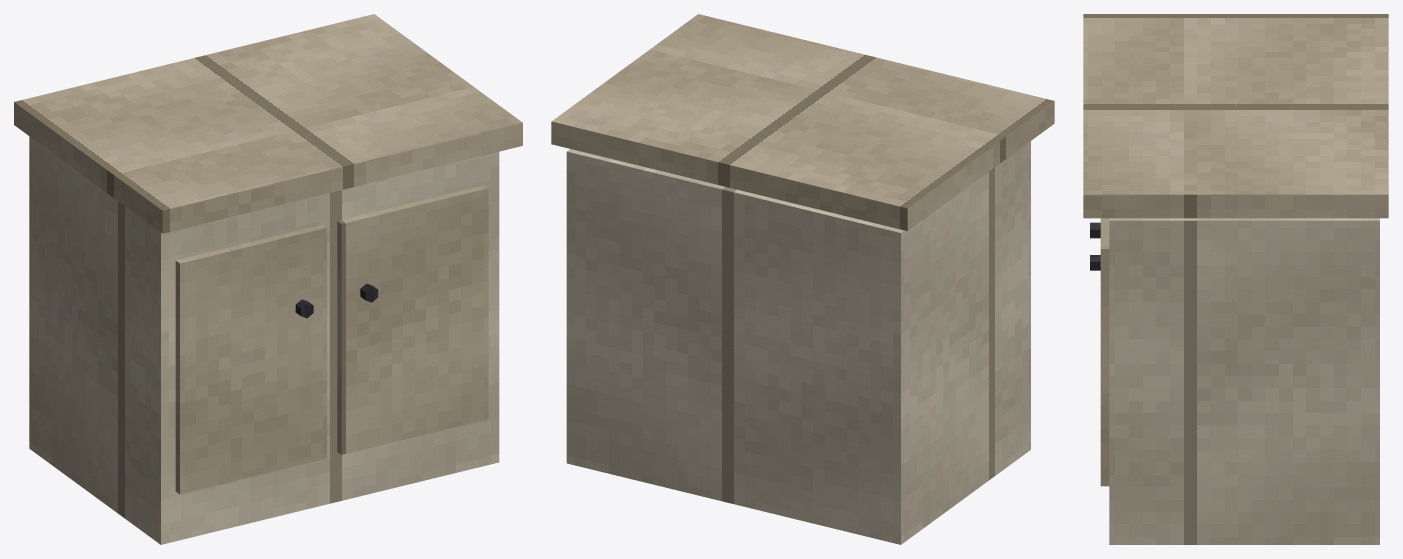
File: kitchen_counter.glb
The picture shows the model from 3 angles, left to right: view 1: azimuth 30°, elevation 25°; view 2: azimuth 150°, elevation 25°; view 3: azimuth 270°, elevation 25°; orthographic projection. The views are drawn at different scales.
Visible parts, largest first — view 1: body; view 2: body; view 3: body.
Boxes of the visible parts, <box> form: body: <box>14,14,522,544</box>; body: <box>551,14,1054,544</box>; body: <box>1083,14,1388,544</box>.
Bounding box in the file's own units: 0.98 × 0.9 × 0.7.
3 materials, 3 textured.
